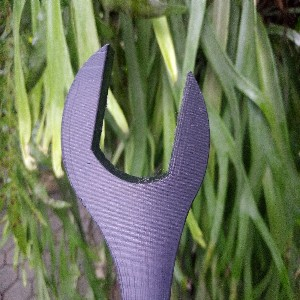spanner: (60, 41, 211, 300)
